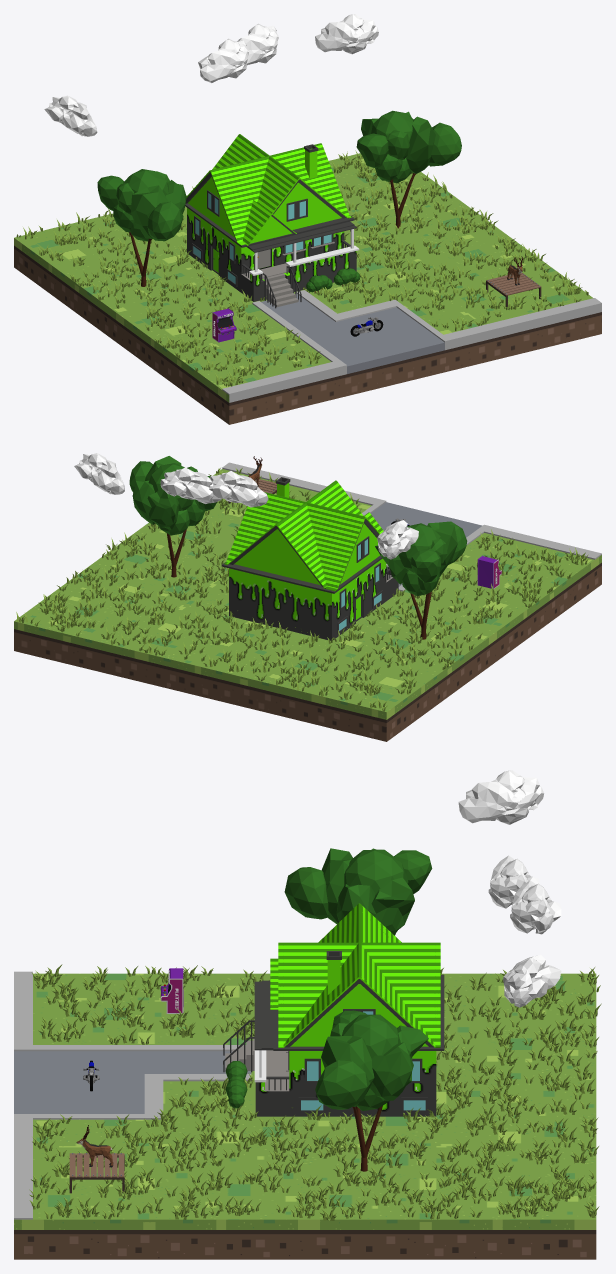
The picture shows the model from 3 angles, top to bottom: view 1: azimuth 30°, elevation 25°; view 2: azimuth 150°, elevation 25°; view 3: azimuth 270°, elevation 25°; orthographic projection. The views are drawn at different scales.
Visible parts, largest first — view 1: Cube.006, Cube.754, Circle.012_Grass_0.192, Cube.007, tree, tree.001, Cube.009, OBJRANDOM_ARCADE; view 2: Cube.006, Cube.754, Circle.012_Grass_0.192, Cube.007, tree.001, tree, OBJRANDOM_ARCADE; view 3: Cube.006, Circle.012_Grass_0.192, Cube.754, tree, Cube.007, tree.001, Cube.009, OBJRANDOM_ARCADE.
Part boxes in pixels (x1,y1,x2,y2): Cube.006: (14, 153, 601, 424); Cube.754: (185, 134, 359, 308); Circle.012_Grass_0.192: (16, 150, 588, 386); Cube.007: (44, 14, 378, 136); tree: (356, 110, 461, 228); tree.001: (97, 169, 186, 286); Cube.009: (486, 272, 541, 306); OBJRANDOM_ARCADE: (212, 308, 236, 342); Cube.006: (14, 462, 601, 741); Cube.754: (221, 477, 398, 640); Circle.012_Grass_0.192: (16, 468, 588, 711); Cube.007: (74, 453, 418, 559); tree.001: (375, 521, 467, 639); tree: (129, 456, 216, 577); OBJRANDOM_ARCADE: (477, 555, 501, 588); Cube.006: (14, 971, 596, 1259); Circle.012_Grass_0.192: (29, 964, 601, 1220); Cube.754: (223, 903, 444, 1116); tree: (315, 1010, 428, 1171); Cube.007: (458, 770, 561, 1007); tree.001: (284, 848, 432, 935); Cube.009: (69, 1153, 124, 1193); OBJRANDOM_ARCADE: (160, 968, 183, 1013).
Size of the model in its own units: 4071 by 2176 by 4040.
Materials: 42 (4 with a texture image).
